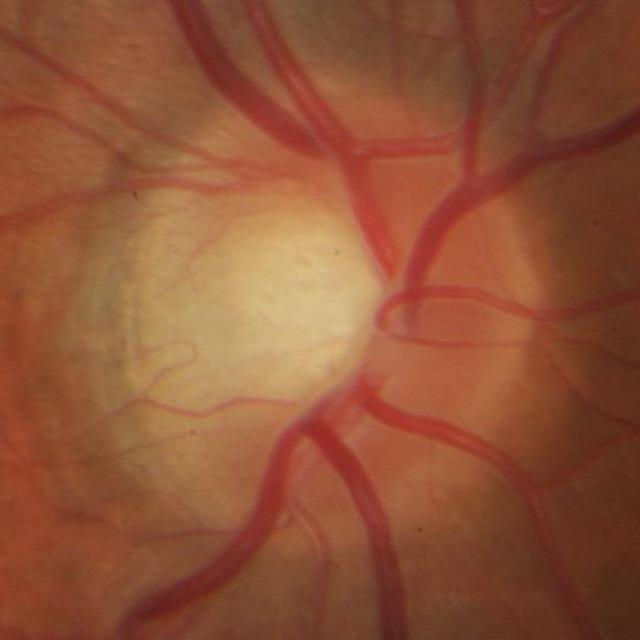OC: (196, 210, 374, 384)
OD: (95, 92, 533, 557)
